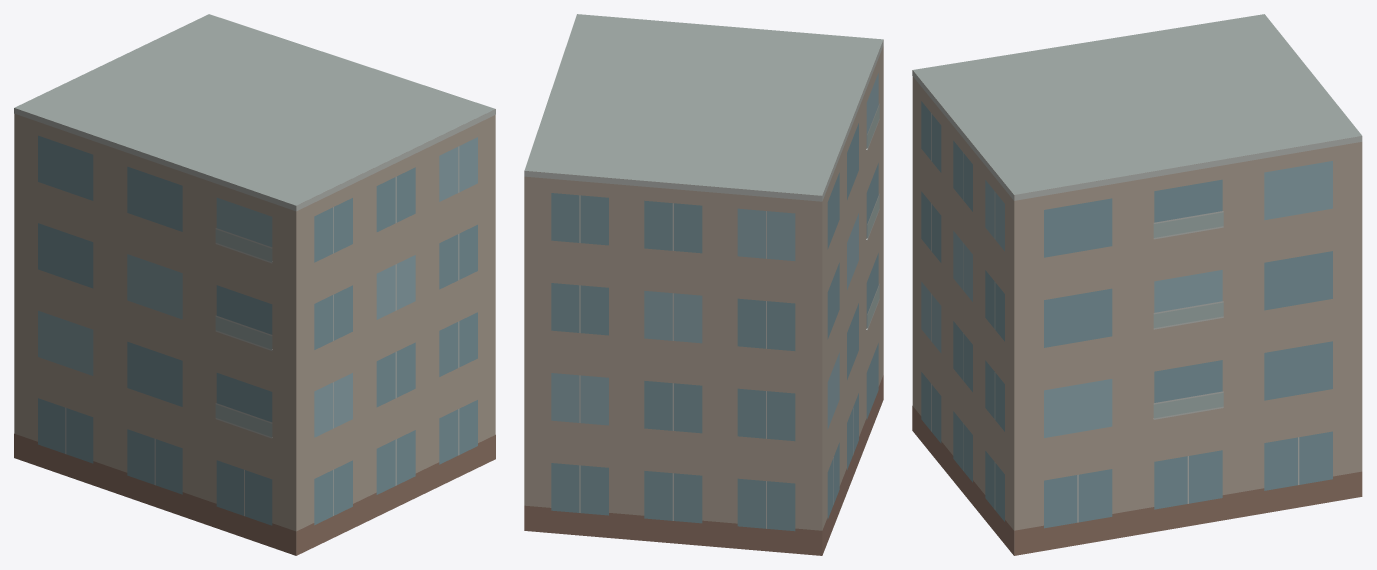
The model's file is survey-upis-32989185.glb.
3 views of the same model, side by side, from view 1: azimuth 30°, elevation 25°; view 2: azimuth 150°, elevation 25°; view 3: azimuth 270°, elevation 25° (orthographic). The views are drawn at different scales.
Parts seen in each view (by area): view 1: survey-upis-32989185.tmp; view 2: survey-upis-32989185.tmp; view 3: survey-upis-32989185.tmp.
Boxes of the visible parts, x1,y1,x2,y2 form: survey-upis-32989185.tmp: (14,14,495,555); survey-upis-32989185.tmp: (524,14,883,555); survey-upis-32989185.tmp: (912,14,1362,555).
Size of the model in its own units: 16.15 by 15 by 16.96.
